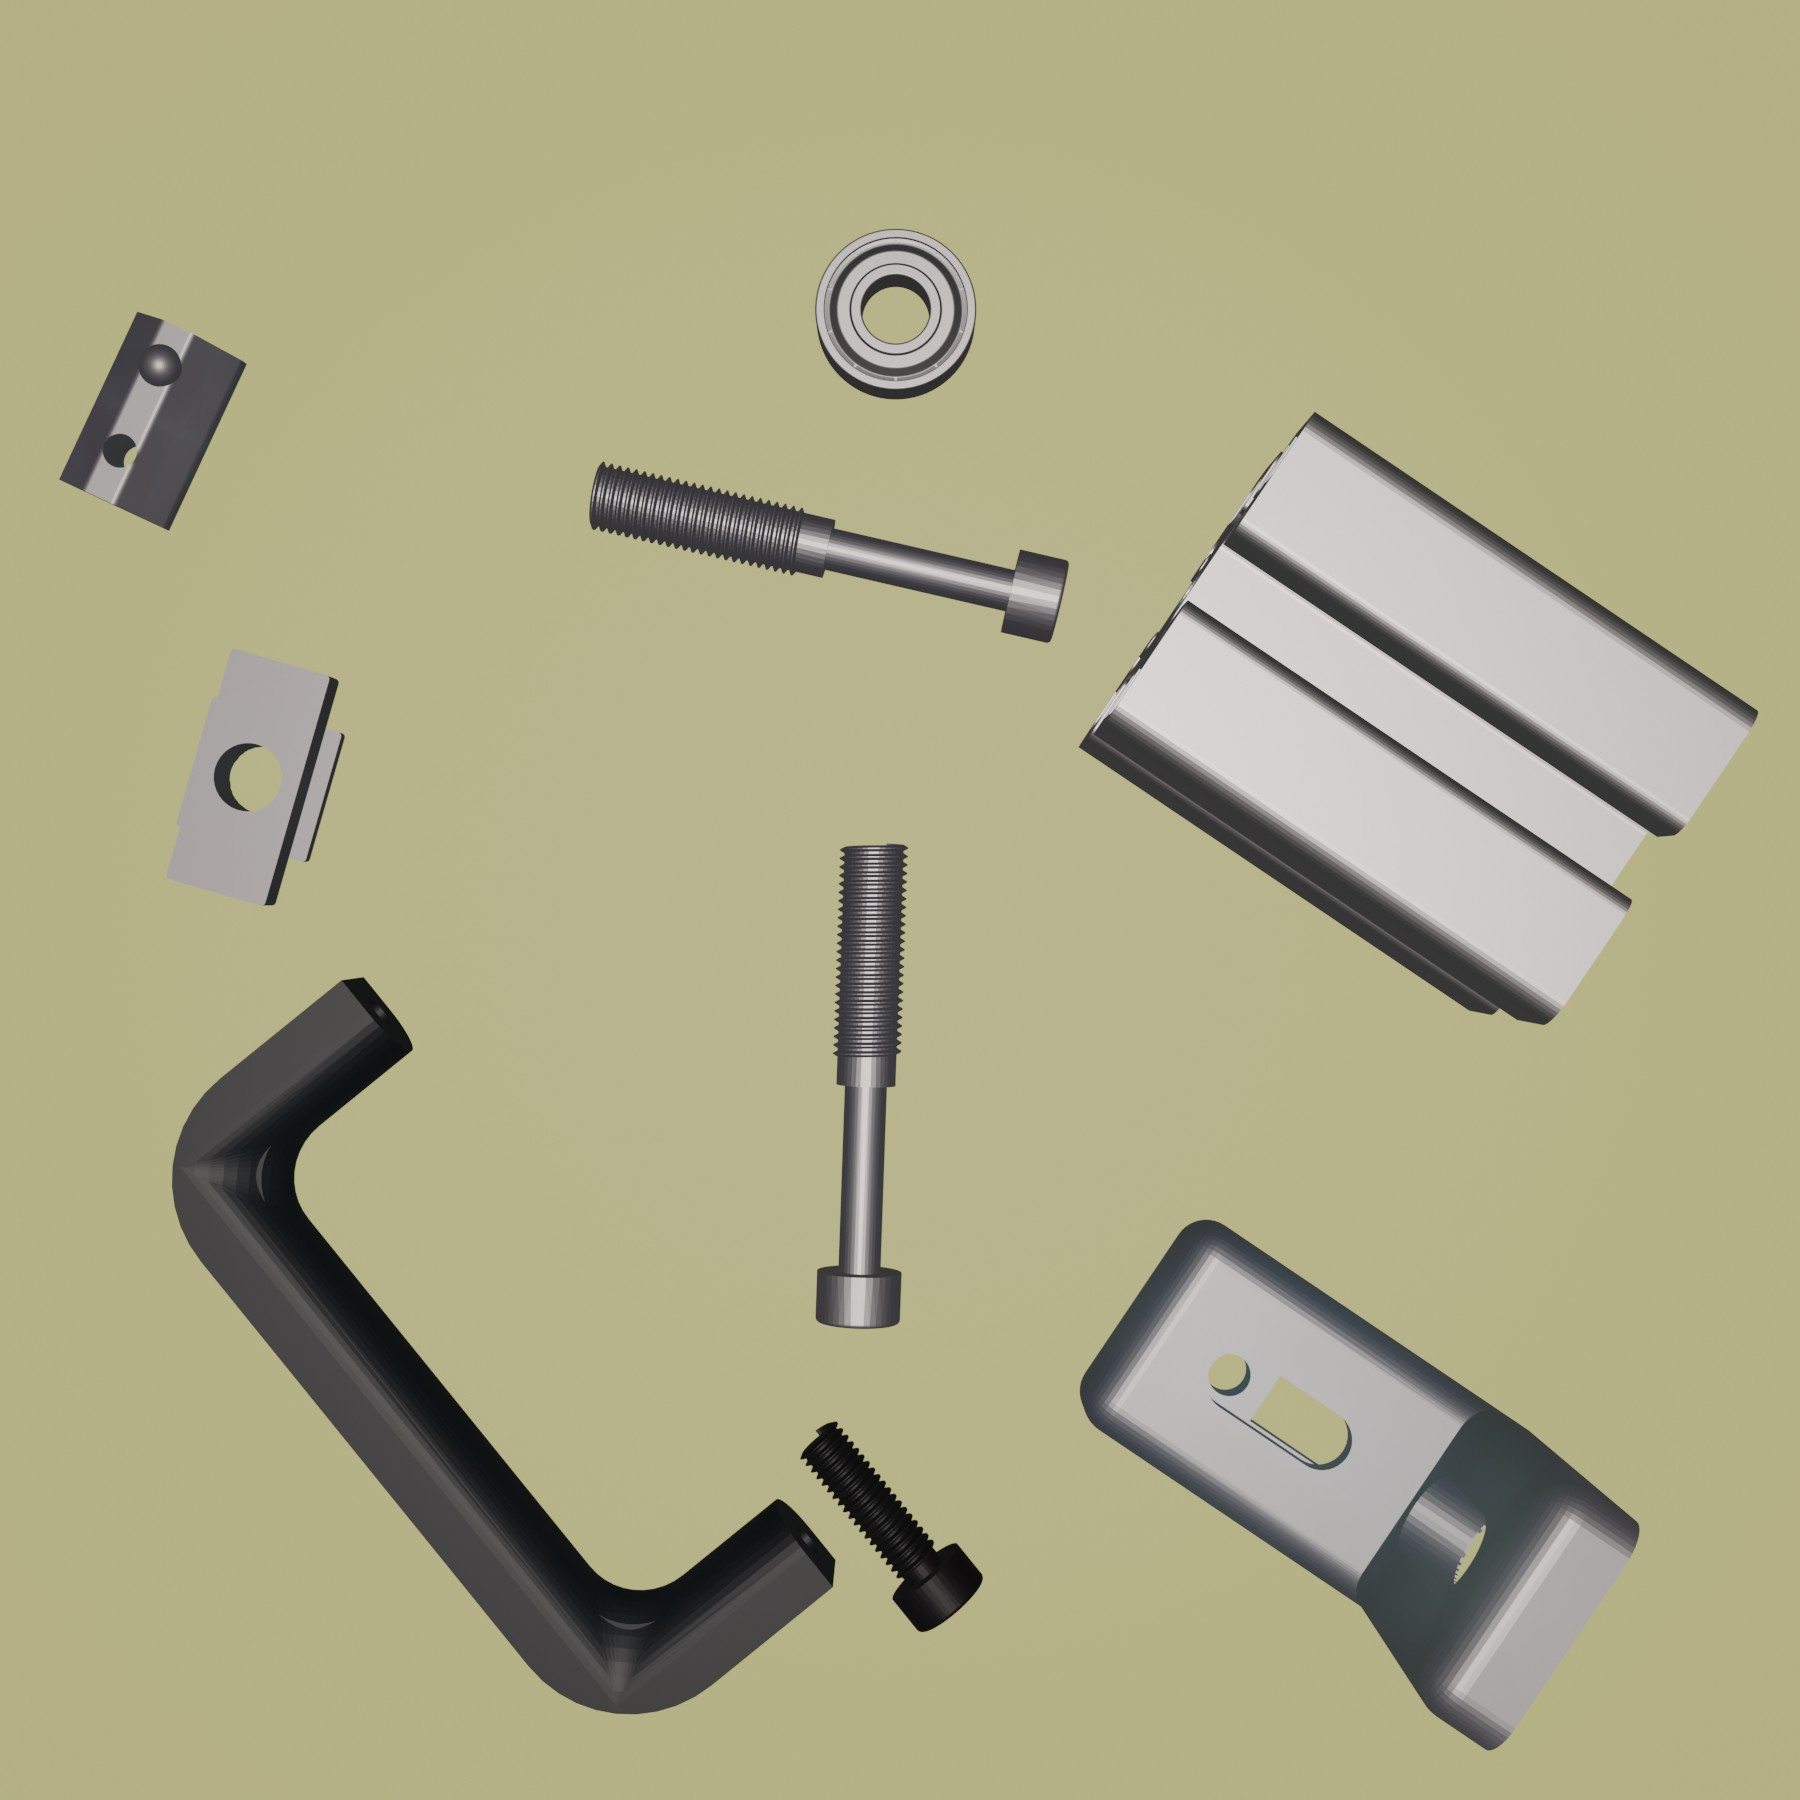Aluminium Extension: (1076, 409, 1759, 1029)
Ball Bearing: (811, 223, 979, 401)
Multiwinkel: (1080, 1220, 1640, 1752)
Pull Handle: (171, 974, 837, 1719)
Shoulder Socket Head Cap Screw: (585, 457, 1070, 648), (813, 837, 913, 1332)
Socket Head Cap Screw: (796, 1416, 982, 1635)
T Nut Square: (162, 648, 351, 908)
T Spring Nut: (56, 308, 251, 534)
